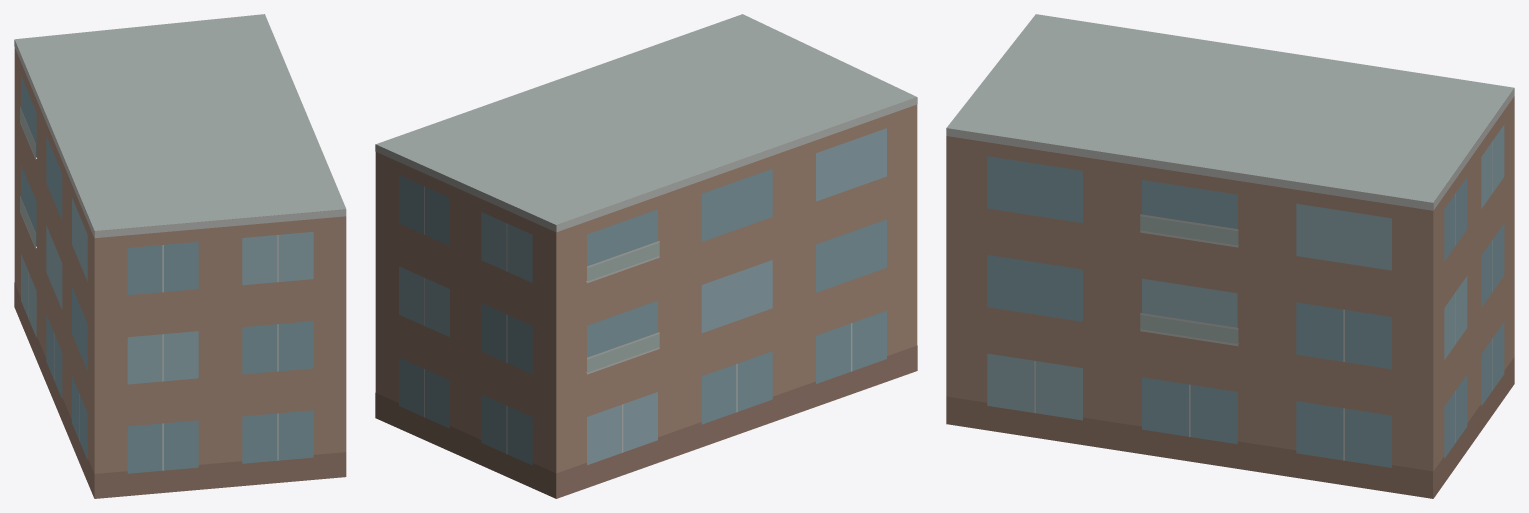
File: survey-upis-32893895.glb
The picture shows the model from 3 angles, left to right: view 1: azimuth 30°, elevation 25°; view 2: azimuth 150°, elevation 25°; view 3: azimuth 270°, elevation 25°; orthographic projection. The views are drawn at different scales.
Parts seen in each view (by area): view 1: survey-upis-32893895.tmp; view 2: survey-upis-32893895.tmp; view 3: survey-upis-32893895.tmp.
Part boxes in pixels (x1,y1,x2,y2): survey-upis-32893895.tmp: (14,14,346,498); survey-upis-32893895.tmp: (375,14,917,498); survey-upis-32893895.tmp: (946,14,1514,498).
Size of the model in its own units: 12.53 by 9.15 by 15.93.
